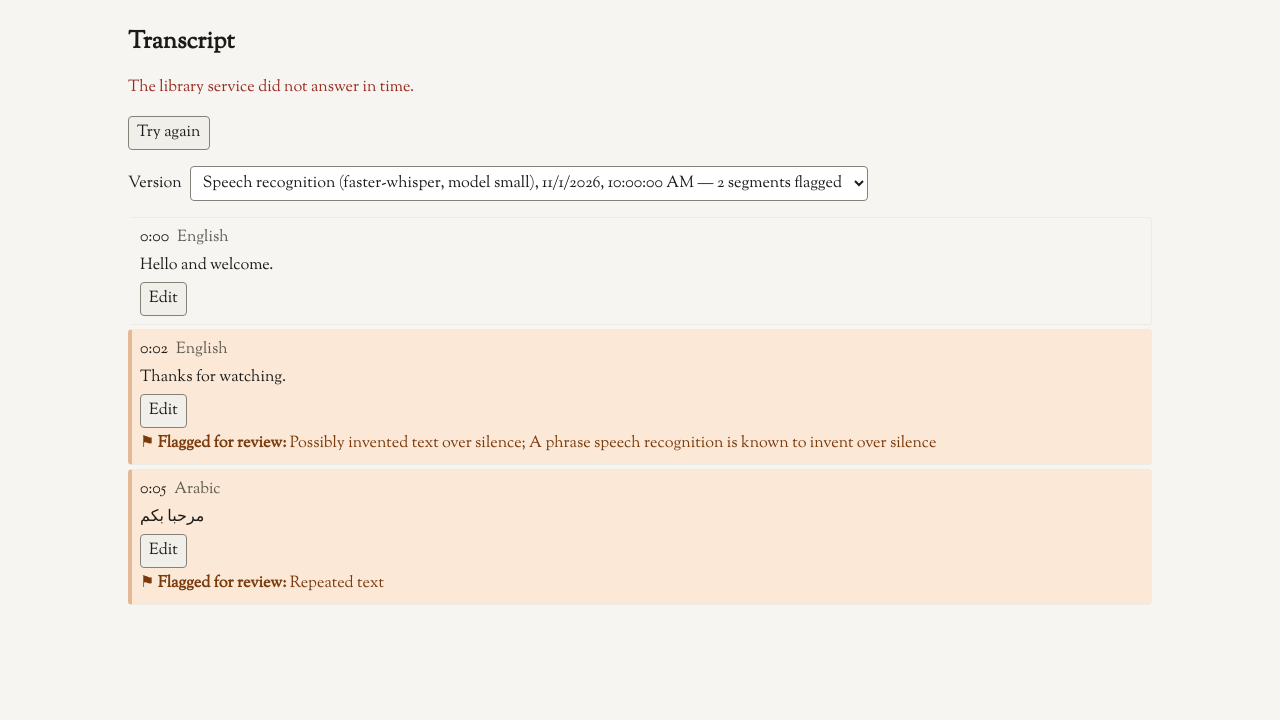
TranscriptViewer: first reads that never settle or fail (FR-756) › a source read that hangs is given up at the limit: the alert and “Try again”; pressing it reads again, the title shows, focus is not lost
Check: the text "Hello and welcome." is shown, box [140,254,273,277]
Click the button "Try again" at (169, 133), box [128,116,210,150]
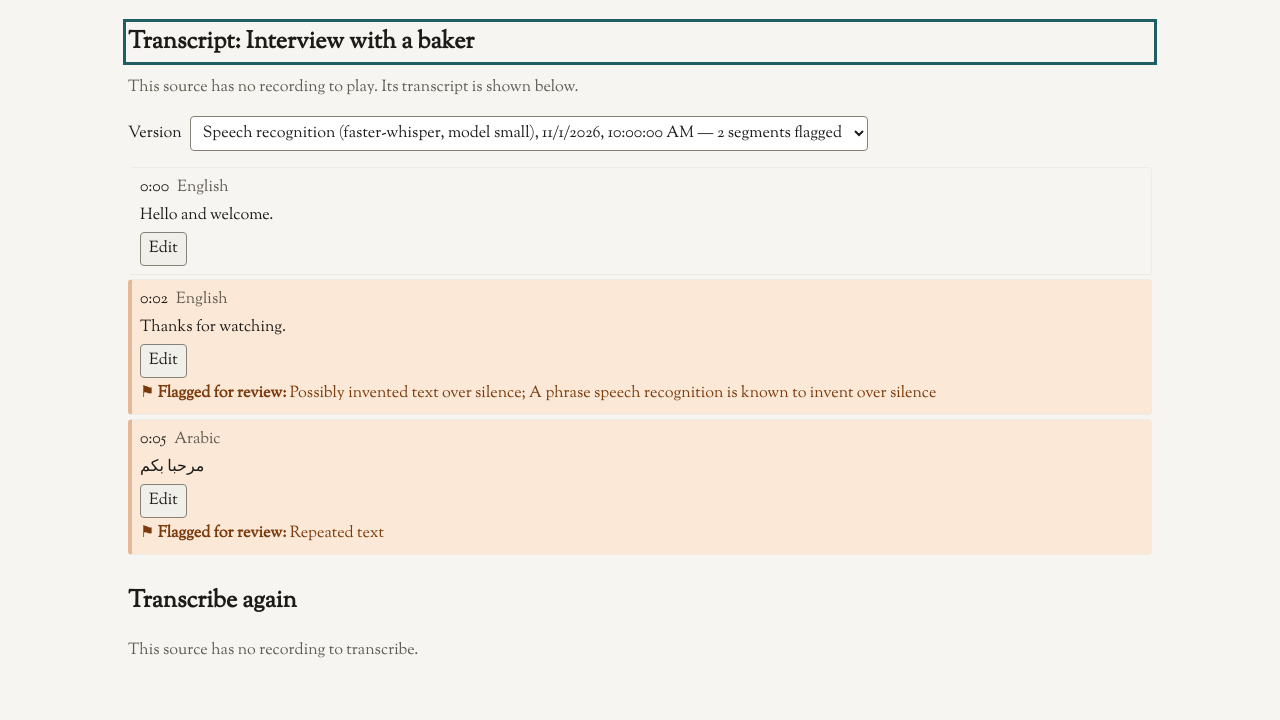
Check: the button "Try again" is gone
